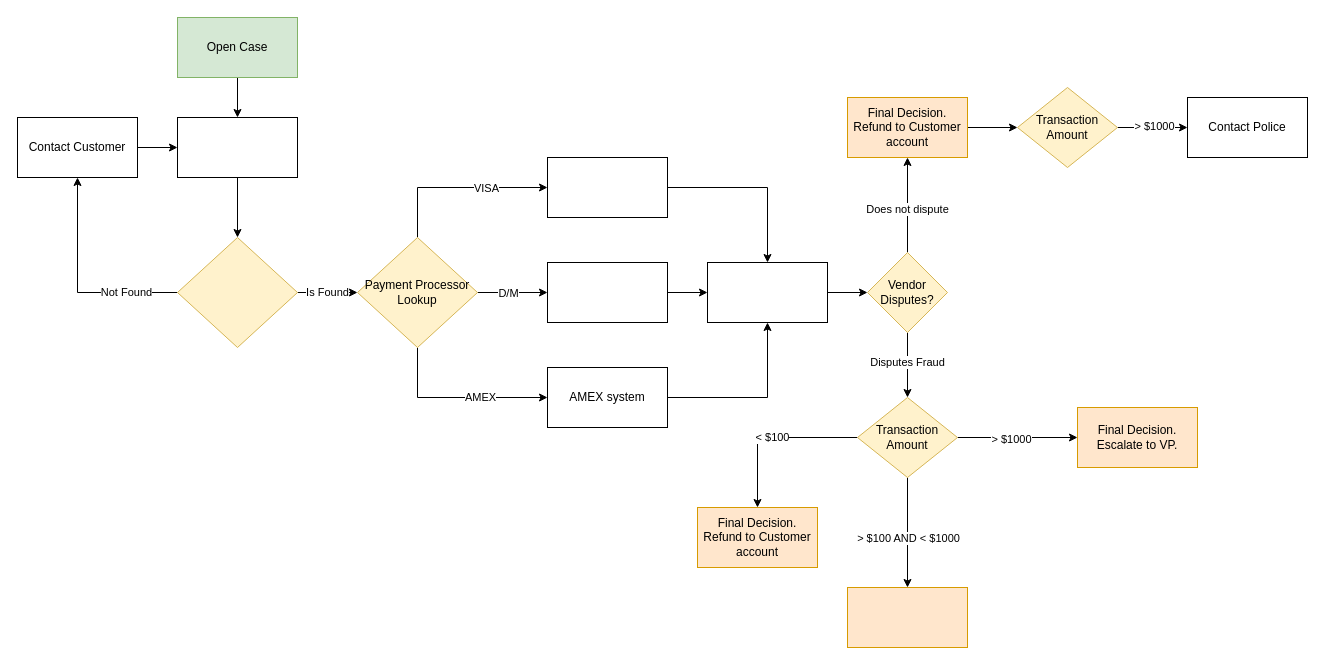
Some shapes in this 1325 by 665 pixel diagram are drawn without their labels. The box of each missing label's shape, as (x1, y1, x2, y2) in pixels:
Contact Vendor: (706, 262, 828, 322)
Discover/Mastercard system: (546, 262, 668, 322)
Final Decision. Deny refund.: (846, 586, 968, 648)
Internal System Query: (176, 116, 298, 178)
Transaction Found?: (176, 236, 298, 348)
VISA system: (546, 156, 668, 218)
